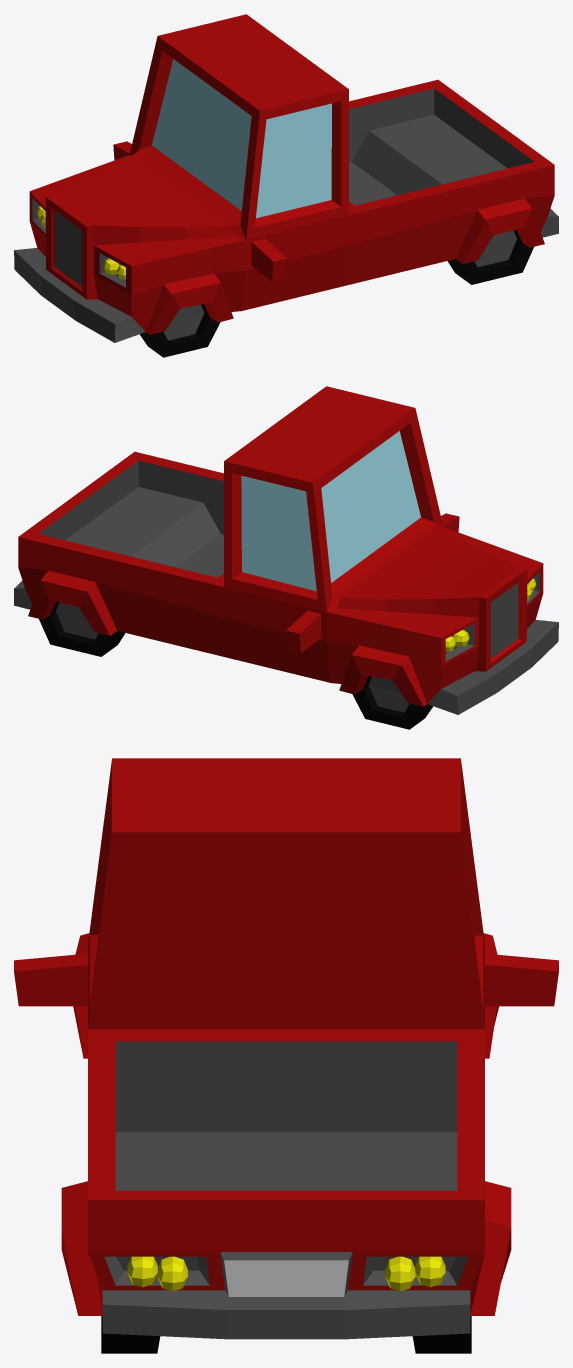
The model's file is PickUpTruck.fbx.
The picture shows the model from 3 angles, top to bottom: view 1: azimuth 30°, elevation 25°; view 2: azimuth 150°, elevation 25°; view 3: azimuth 270°, elevation 25°; orthographic projection. The views are drawn at different scales.
Parts seen in each view (by area): view 1: Cube.186; view 2: Cube.186; view 3: Cube.186.
Part boxes in pixels (x1,y1,x2,y2): Cube.186: [14, 14, 558, 357]; Cube.186: [14, 386, 558, 729]; Cube.186: [14, 758, 558, 1353].
Bounding box in the file's own units: 280 × 132 × 171.
